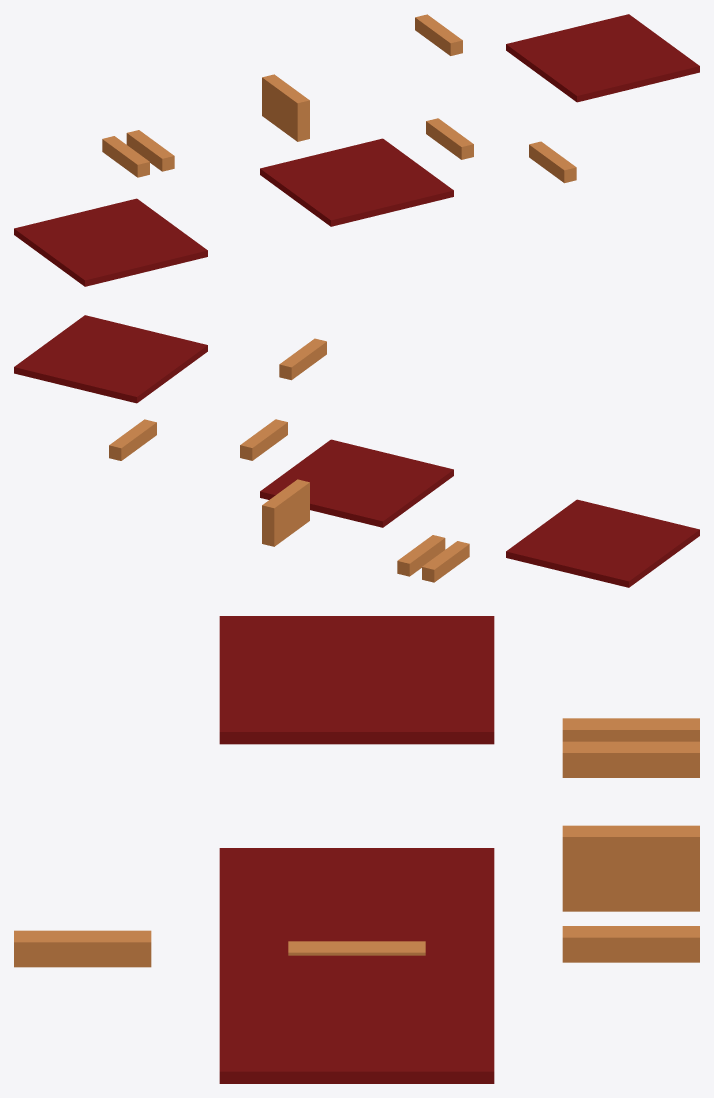
Rendered from H_stage.fbx.
3 renders of one model, top to bottom at view 1: azimuth 30°, elevation 25°; view 2: azimuth 150°, elevation 25°; view 3: azimuth 270°, elevation 25°, orthographic. The views are drawn at different scales.
Visible parts, largest first — view 1: plane2, plane, plane3, block4, block3, block5, block_1, block3_1, block2_1, block2, block; view 2: plane, plane3, plane2, block3, block5, block_1, block4, block3_1, block2_1, block2, block; view 3: plane, plane3, plane2, block4, block5, block3, block2_1, block, block2, block_1, block3_1.
Boxes of the visible parts, x1=… form: plane2: x1=260, y1=138, x2=453, y2=226; plane: x1=14, y1=198, x2=207, y2=286; plane3: x1=506, y1=14, x2=699, y2=102; block4: x1=529, y1=141, x2=576, y2=183; block3: x1=262, y1=74, x2=309, y2=115; block5: x1=415, y1=14, x2=462, y2=55; block_1: x1=102, y1=136, x2=149, y2=177; block3_1: x1=426, y1=118, x2=473, y2=159; block2_1: x1=126, y1=130, x2=174, y2=171; block2: x1=262, y1=90, x2=309, y2=128; block: x1=262, y1=103, x2=309, y2=141; plane: x1=506, y1=499, x2=699, y2=587; plane3: x1=14, y1=315, x2=207, y2=403; plane2: x1=260, y1=439, x2=453, y2=527; block3: x1=262, y1=479, x2=309, y2=520; block5: x1=109, y1=419, x2=156, y2=460; block_1: x1=422, y1=541, x2=469, y2=582; block4: x1=279, y1=338, x2=326, y2=380; block3_1: x1=240, y1=419, x2=287, y2=460; block2_1: x1=397, y1=535, x2=445, y2=576; block2: x1=262, y1=495, x2=309, y2=533; block: x1=262, y1=508, x2=309, y2=546; plane: x1=219, y1=616, x2=494, y2=744; plane3: x1=219, y1=955, x2=494, y2=1083; plane2: x1=219, y1=848, x2=494, y2=955; block4: x1=14, y1=930, x2=151, y2=967; block5: x1=562, y1=926, x2=699, y2=962; block3: x1=562, y1=825, x2=699, y2=861; block2_1: x1=562, y1=741, x2=699, y2=777; block: x1=562, y1=887, x2=699, y2=911; block2: x1=562, y1=862, x2=699, y2=886; block_1: x1=562, y1=718, x2=699, y2=741; block3_1: x1=288, y1=941, x2=425, y2=955.
Size of the model in its own units: 5000 by 550 by 2500.
